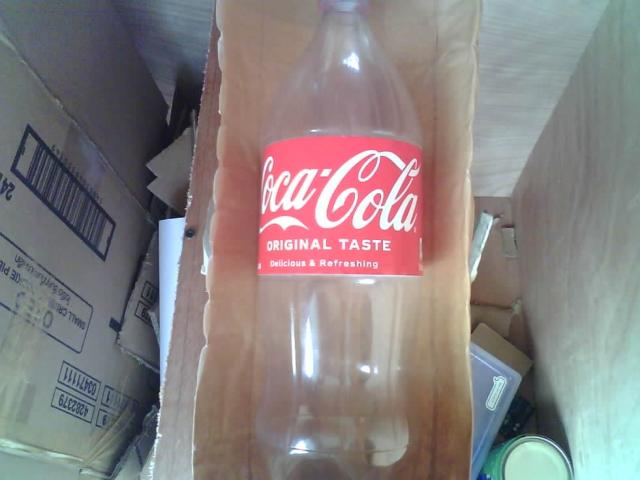large_bottle: (247, 0, 450, 480)
